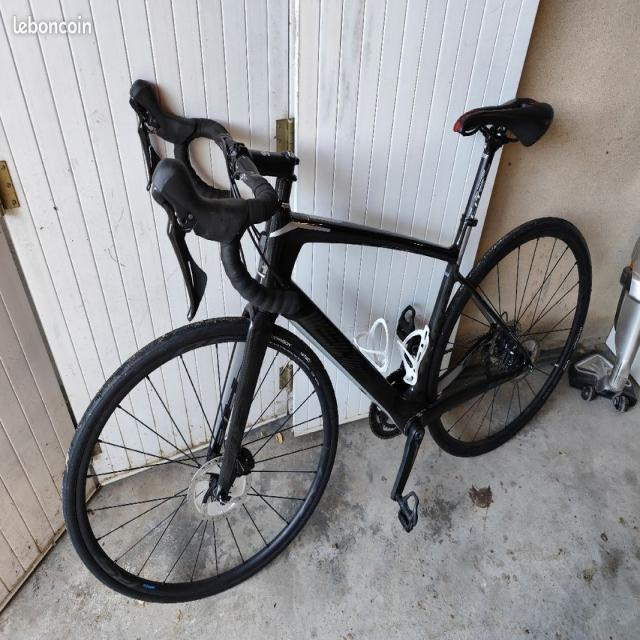Bike: (64, 80, 592, 602)
